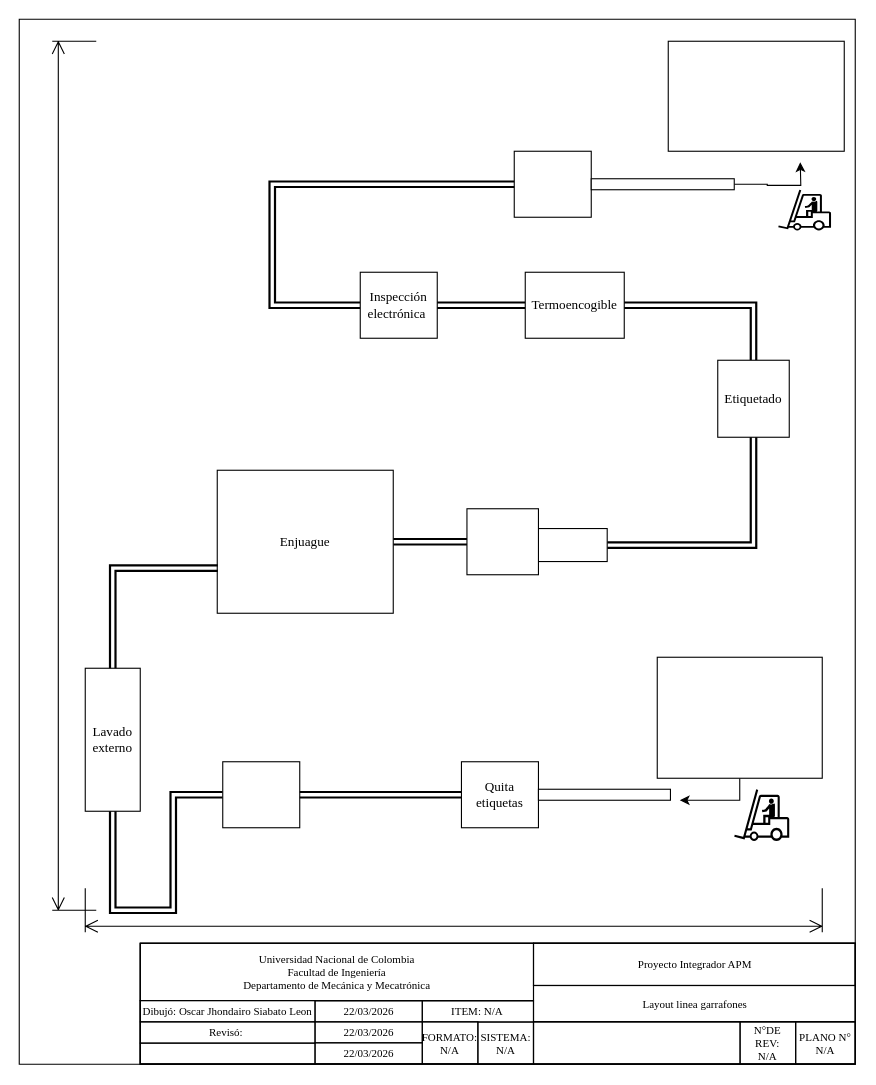
The diagram is 876 pixels wide and 1085 high, and some of its shapes have lost their labels. Each missing label, with the centre of its shape:
22 m: [453,909]
26 m: [73,475]
Aprobó:: [227,1053]
Destapado: [261,794]
Empaquetado: [552,183]
Llenado: [502,541]
PIEZA: N/A: [636,1042]
Tapado: [571,544]
Zona de almacenamiento: [755,95]
Zona de recepción de botellones vacios: [739,717]
